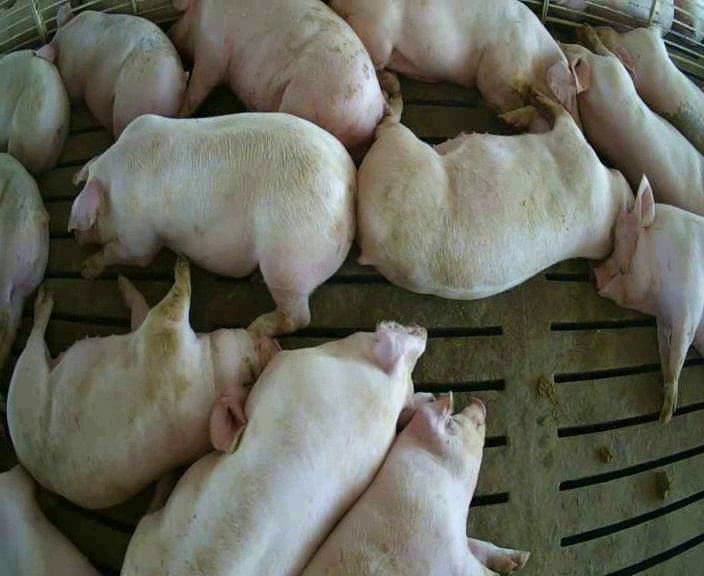pig: (122, 323, 435, 573), (8, 257, 278, 508), (69, 113, 352, 335), (358, 71, 631, 298), (304, 391, 529, 574), (171, 1, 390, 147), (331, 2, 579, 122), (561, 22, 703, 215), (595, 176, 703, 422), (35, 2, 188, 136), (0, 50, 68, 171)
